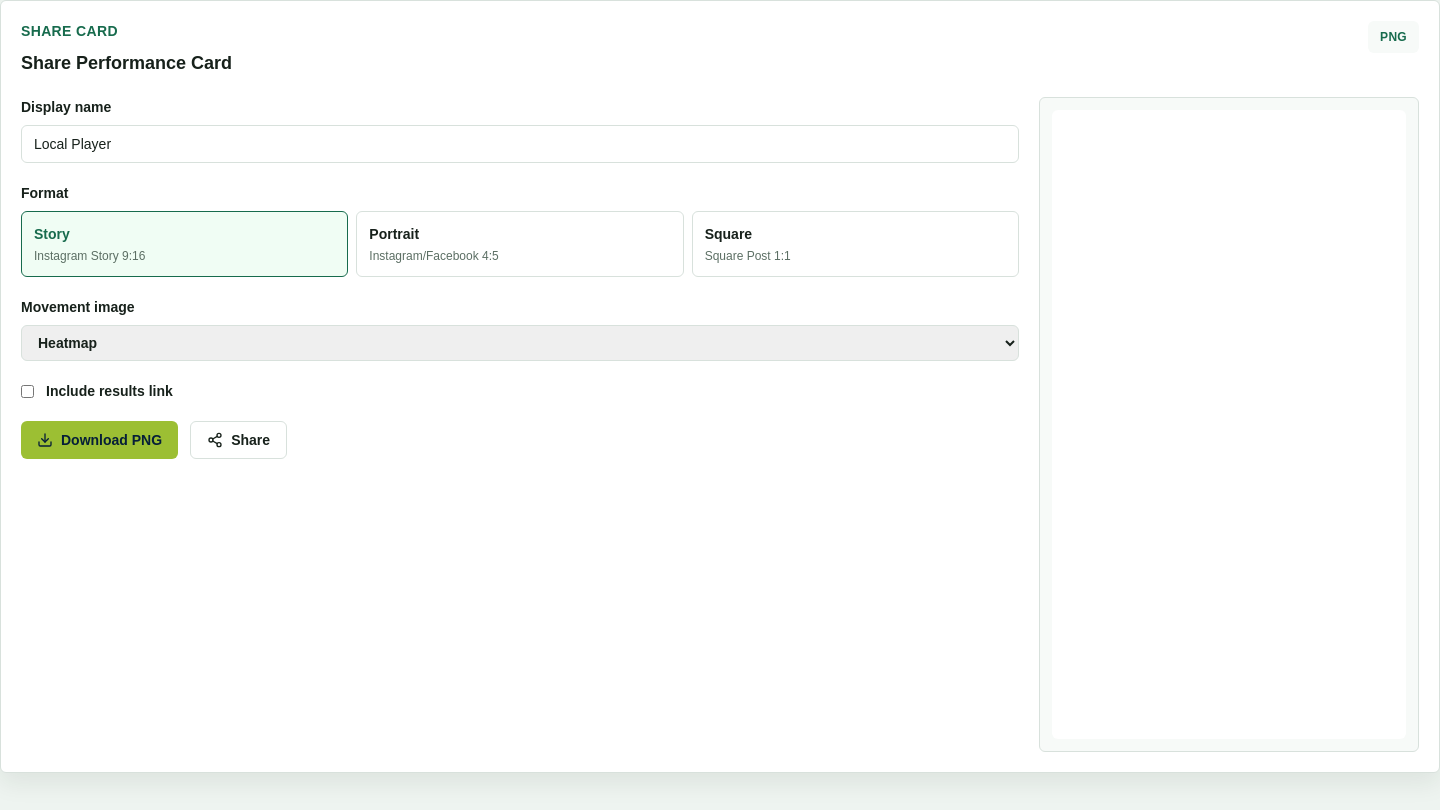
Test: share card panel › creates a PNG download for the selected format
Click the button "Portrait Instagram/Facebook 4:5". click: (394, 234)
box: [356,211,684,277]
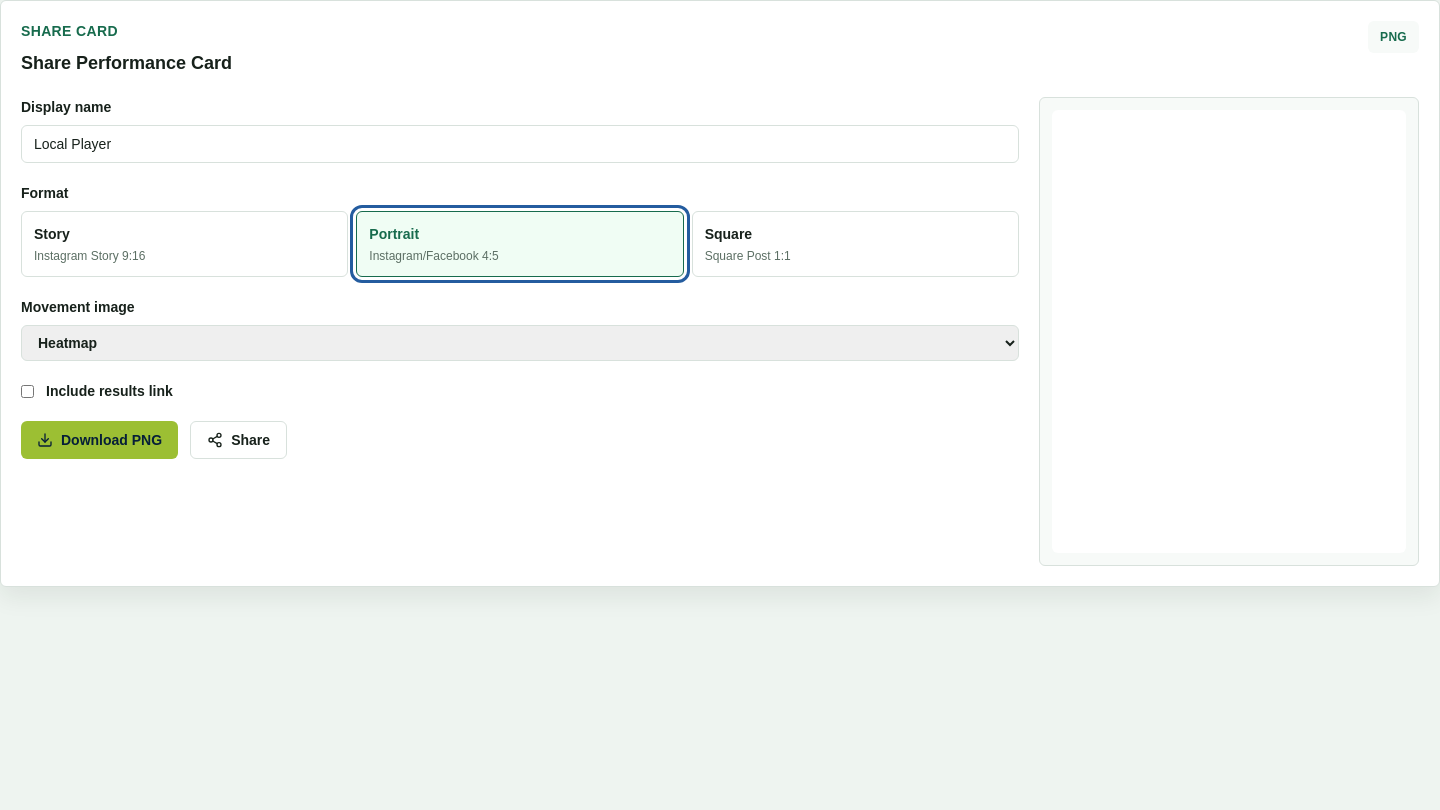
Click the button "Download PNG". click: (100, 440)
box: [21,421,178,459]
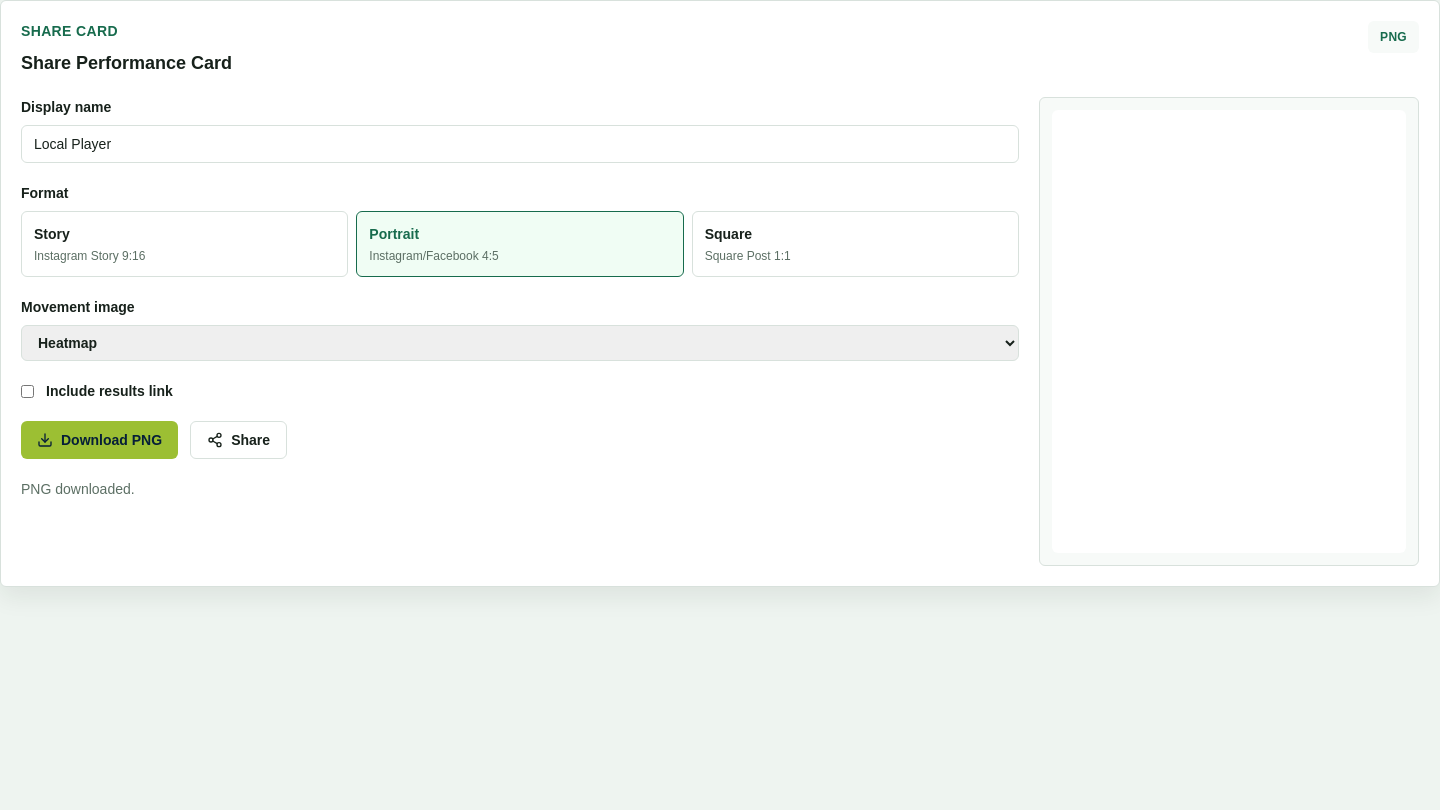
Expected: the text "PNG downloaded." is shown, [21,481,135,497]
